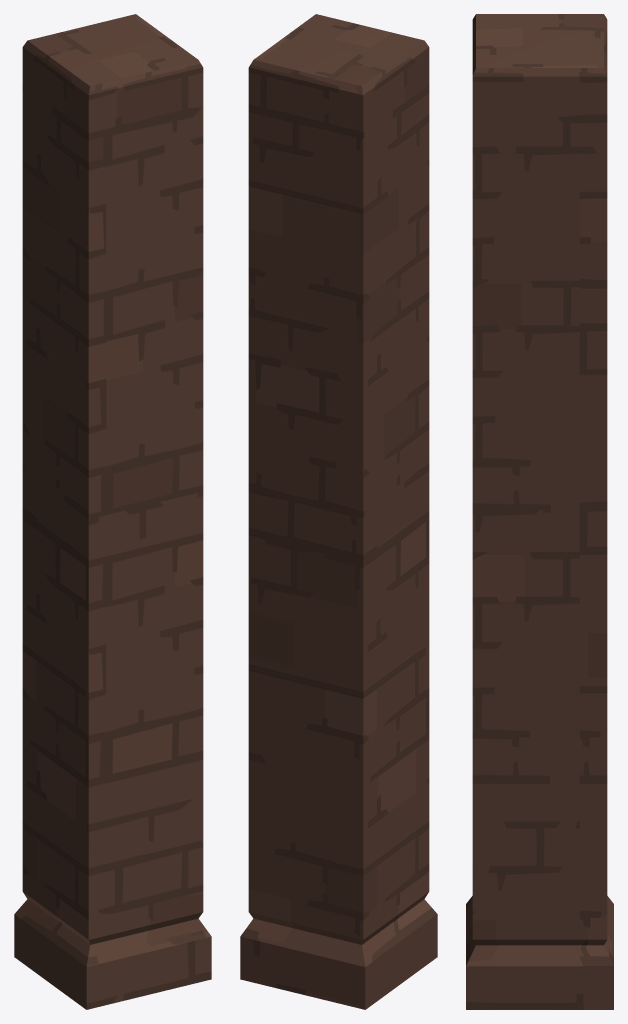
Rendered from SM_Bld_Base_Pillar_01.obj.
3 views of the same model, side by side, from view 1: azimuth 30°, elevation 25°; view 2: azimuth 150°, elevation 25°; view 3: azimuth 270°, elevation 25° (orthographic). The views are drawn at different scales.
Visible parts, largest first — view 1: SM_Bld_Base_Pillar_01_0; view 2: SM_Bld_Base_Pillar_01_0; view 3: SM_Bld_Base_Pillar_01_0.
Part boxes in pixels (bbox=[...]): SM_Bld_Base_Pillar_01_0: bbox=[14, 14, 211, 1009]; SM_Bld_Base_Pillar_01_0: bbox=[240, 14, 437, 1009]; SM_Bld_Base_Pillar_01_0: bbox=[466, 14, 613, 1009].
Bounding box in the file's own units: 0.4282 × 3.01 × 0.4282.
1 material, 1 textured.
